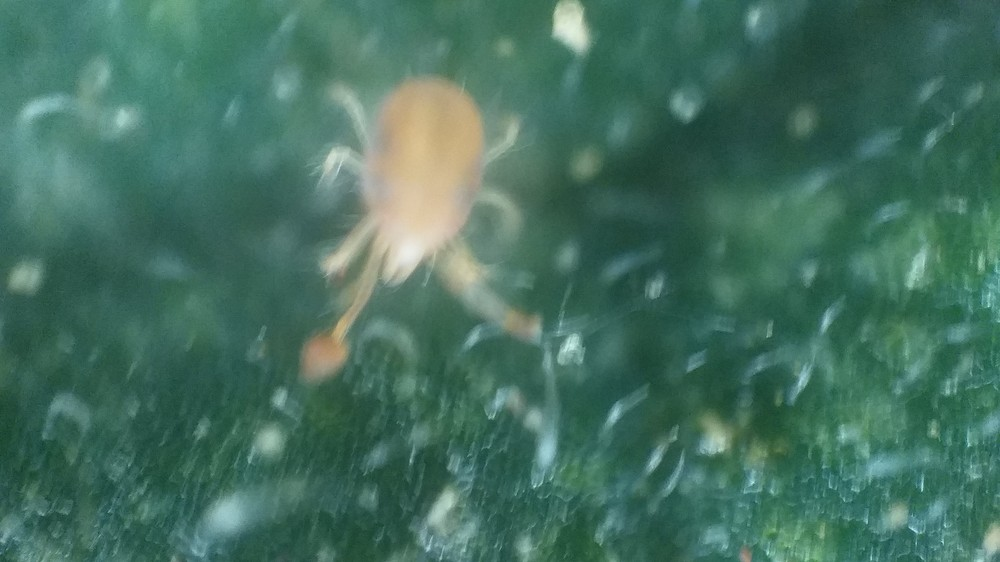Aracnido Rojo: (263, 48, 569, 370)
